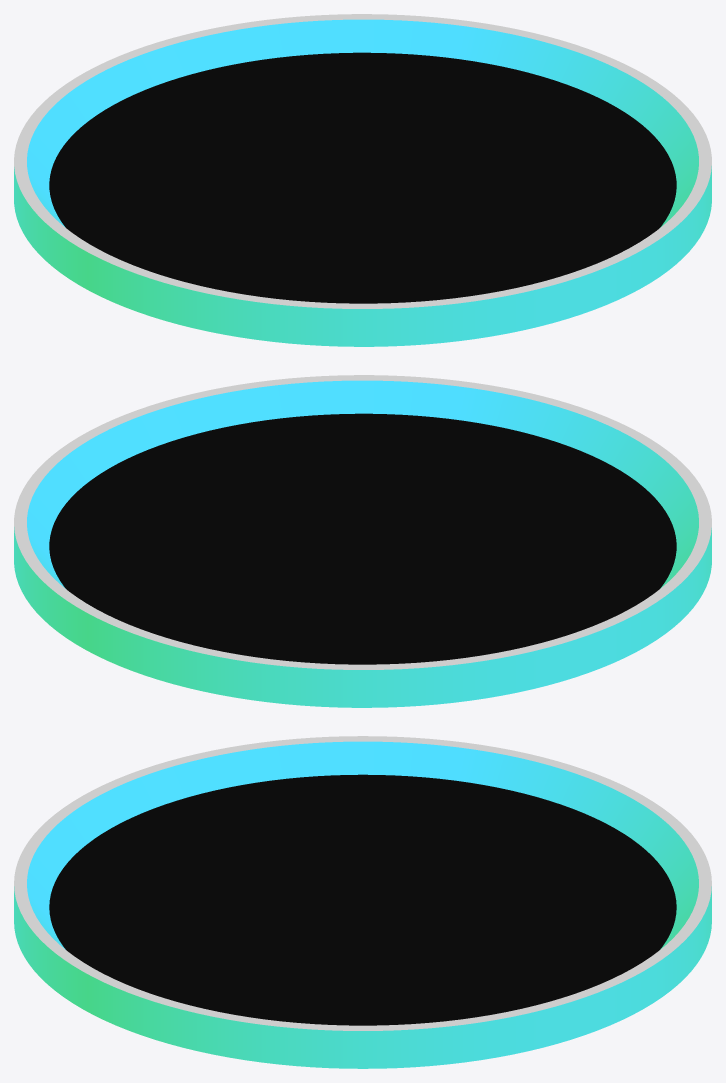
The model's file is Holopod.fbx.
3 renders of one model, top to bottom at view 1: azimuth 30°, elevation 25°; view 2: azimuth 150°, elevation 25°; view 3: azimuth 270°, elevation 25°, orthographic.
Parts seen in each view (by area): view 1: Holopod; view 2: Holopod; view 3: Holopod.
Boxes of the visible parts, box(x1,y1,x2,y2) form: Holopod: box(14, 14, 711, 346); Holopod: box(14, 375, 711, 707); Holopod: box(14, 736, 711, 1068).
Size of what is drawn, in the model's own units: 34.59 by 2.07 by 34.59.
